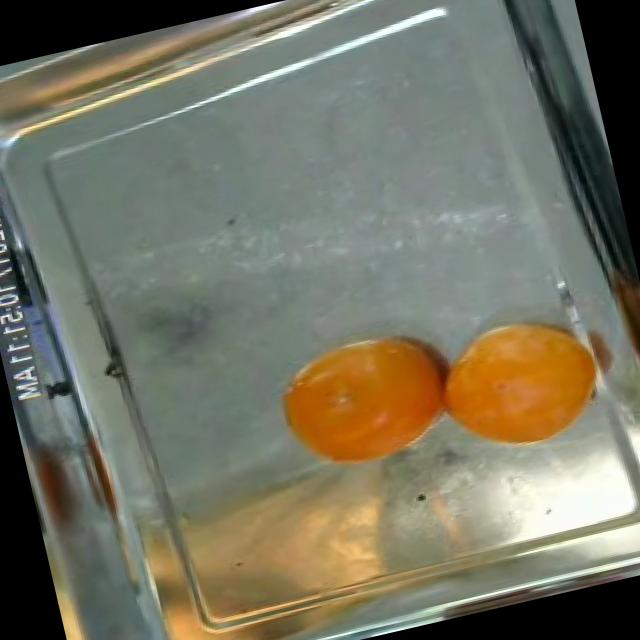Fruit: (407, 288, 627, 479), (254, 309, 472, 492)
